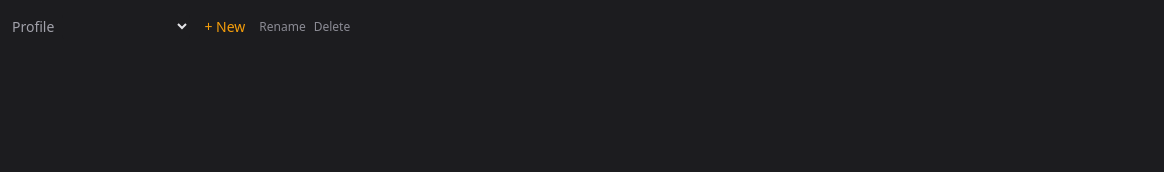
Test: ProfileSelector create-name validation › empty input shows 'Name is required'
The width and height of the screenshot is (1164, 172).
Click the button "+ New". click: (225, 26)
box: [198,16,251,36]
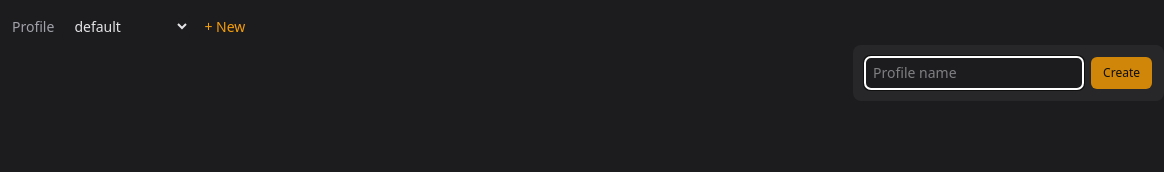
Press Enter in the field with placeholder "Profile name", box [865,57,1083,89]
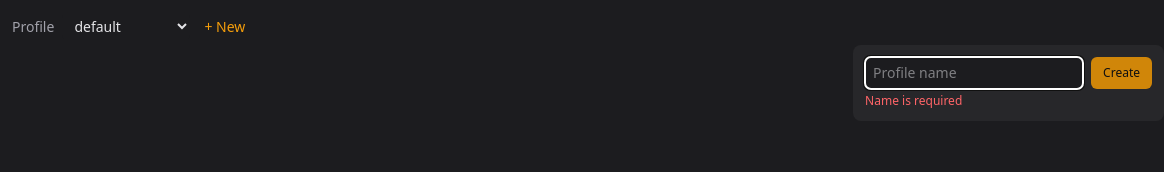
Expected: the text "Name is required" is shown, [865,92,962,109]
